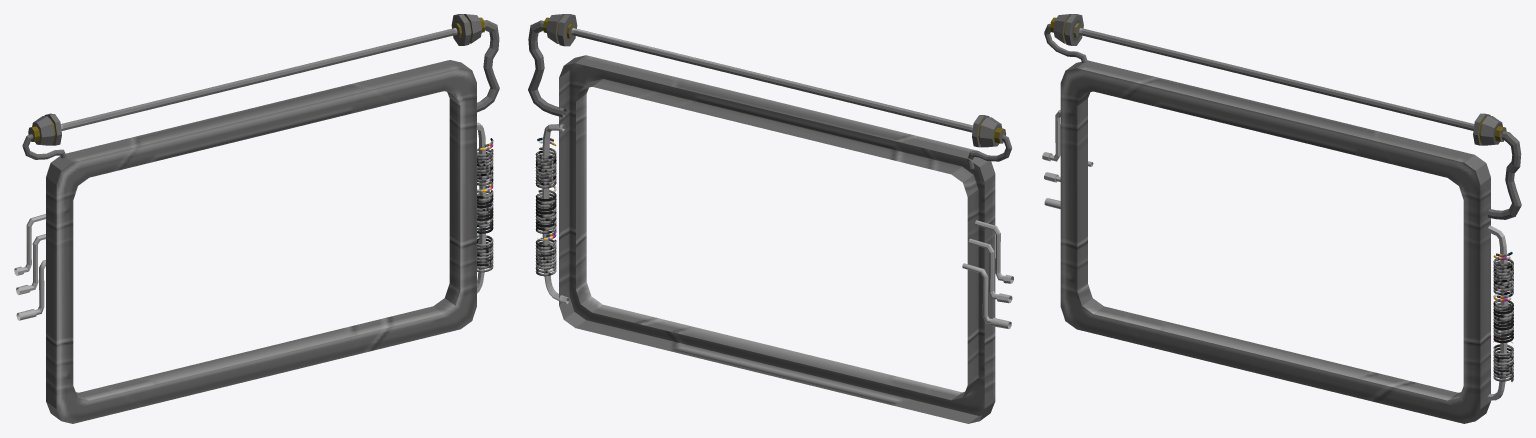
The model's file is monitor1.fbx.
3 views of the same model, side by side, from view 1: azimuth 30°, elevation 25°; view 2: azimuth 150°, elevation 25°; view 3: azimuth 330°, elevation 25° (orthographic).
Visible parts, largest first — view 1: moniter_frmae, moniter_HP_bar, coil1, socket_moniter_HP_bar_L, socket_moniter_HP_bar_R, socket_L_linmoniter_HP_bar, coil_tube, nurbsToPoly5, nurbsToPoly3; view 2: moniter_frmae, moniter_HP_bar, coil1, socket_moniter_HP_bar_L, coil_tube, socket_moniter_HP_bar_R, socket_L_linmoniter_HP_bar, nurbsToPoly5, nurbsToPoly4, nurbsToPoly3, socket_R_linmoniter_HP_bar; view 3: moniter_frmae, moniter_HP_bar, coil1, socket_moniter_HP_bar_L, coil_tube, socket_moniter_HP_bar_R, socket_L_linmoniter_HP_bar.
Boxes of the visible parts, bbox=[...] form: moniter_frmae: bbox=[46, 60, 476, 423]; moniter_HP_bar: bbox=[60, 28, 457, 130]; coil1: bbox=[477, 138, 493, 272]; socket_moniter_HP_bar_L: bbox=[477, 20, 499, 112]; socket_moniter_HP_bar_R: bbox=[28, 113, 61, 145]; socket_L_linmoniter_HP_bar: bbox=[451, 14, 485, 45]; coil_tube: bbox=[477, 122, 486, 293]; nurbsToPoly5: bbox=[16, 260, 45, 320]; nurbsToPoly3: bbox=[14, 214, 45, 275]; moniter_frmae: bbox=[559, 55, 995, 423]; moniter_HP_bar: bbox=[571, 28, 973, 132]; coil1: bbox=[535, 137, 556, 276]; socket_moniter_HP_bar_L: bbox=[528, 20, 566, 117]; coil_tube: bbox=[542, 124, 569, 304]; socket_moniter_HP_bar_R: bbox=[972, 115, 1005, 147]; socket_L_linmoniter_HP_bar: bbox=[543, 14, 577, 46]; nurbsToPoly5: bbox=[962, 263, 1011, 328]; nurbsToPoly4: bbox=[968, 238, 1012, 303]; nurbsToPoly3: bbox=[975, 220, 1013, 283]; socket_R_linmoniter_HP_bar: bbox=[967, 135, 1011, 169]; moniter_frmae: bbox=[1060, 60, 1490, 423]; moniter_HP_bar: bbox=[1079, 28, 1474, 130]; coil1: bbox=[1493, 252, 1513, 381]; socket_moniter_HP_bar_L: bbox=[1487, 131, 1521, 219]; coil_tube: bbox=[1487, 225, 1507, 400]; socket_moniter_HP_bar_R: bbox=[1050, 14, 1083, 45]; socket_L_linmoniter_HP_bar: bbox=[1473, 113, 1506, 145].
Bounding box in the file's own units: 20.1 × 12.21 × 1.16.
